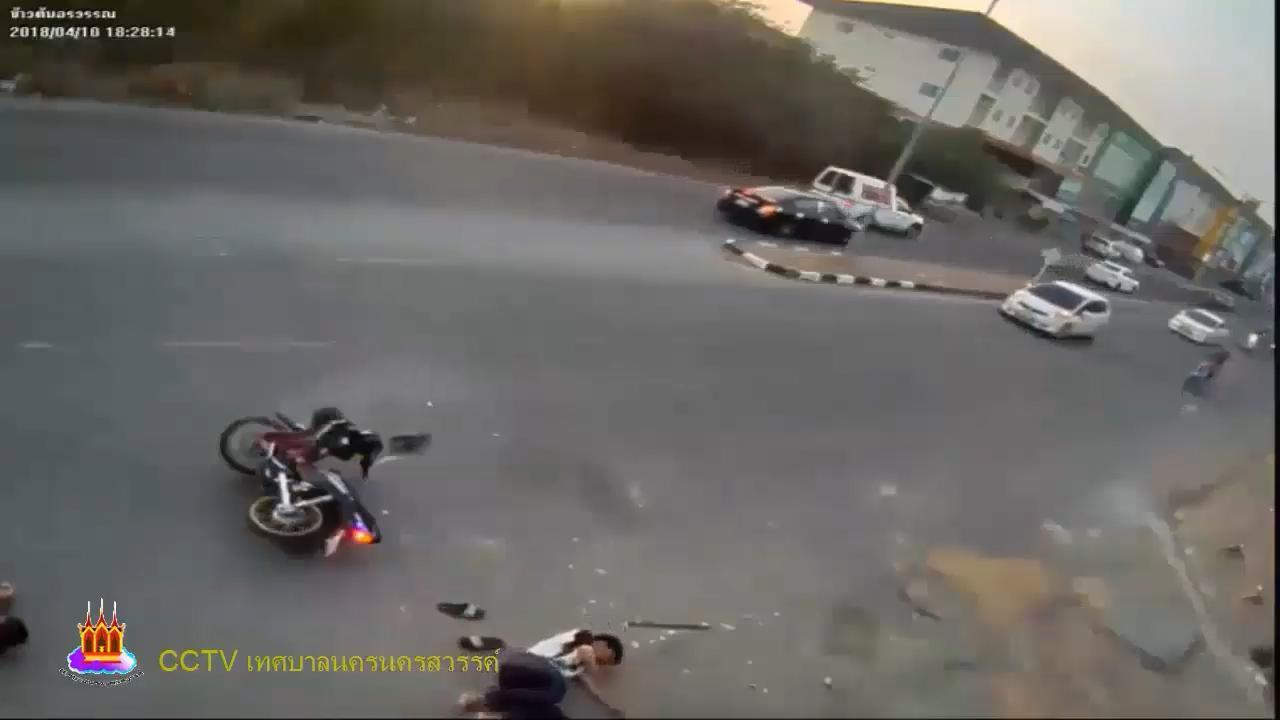accident: (455, 625, 638, 720)
